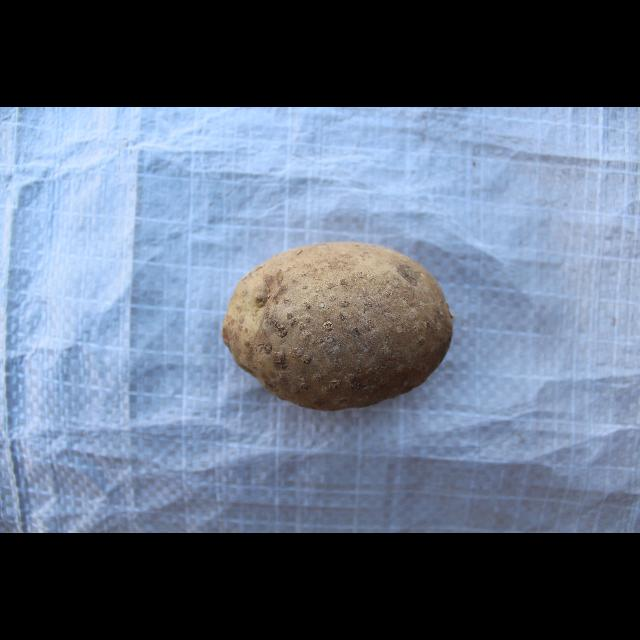Diseased-fungal potato: (218, 242, 454, 414)
